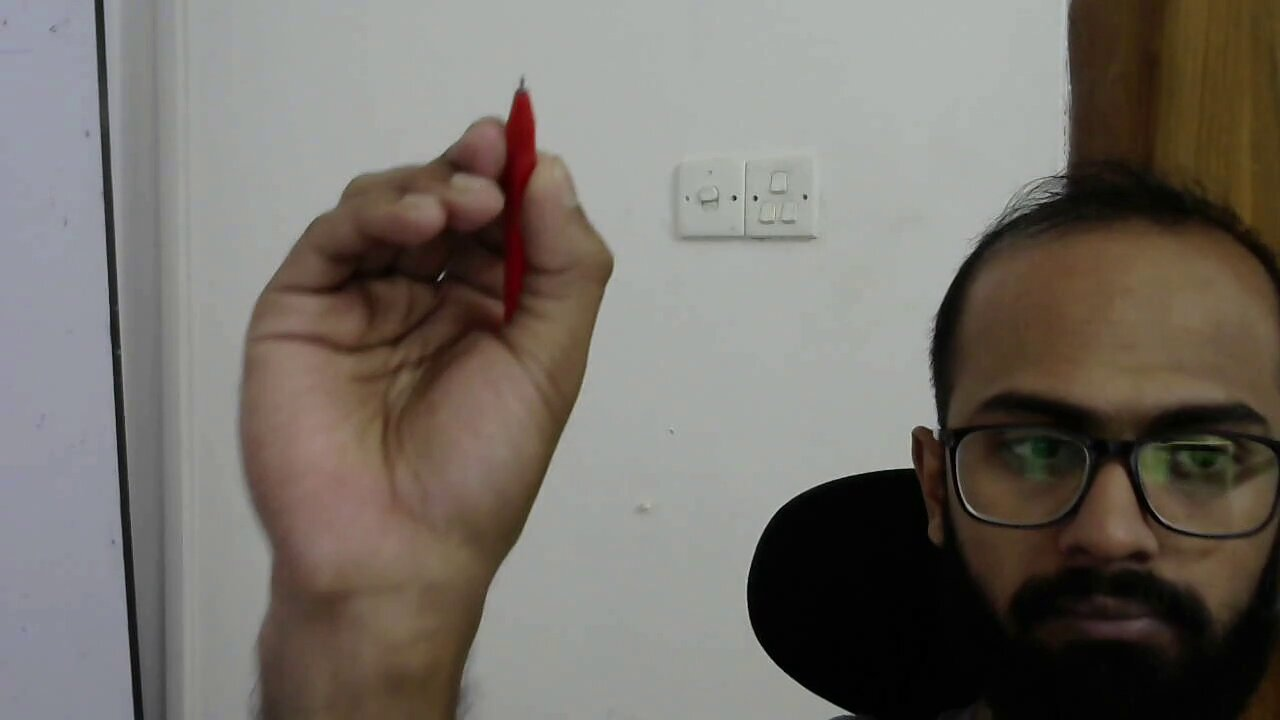pointer: (238, 113, 614, 464)
